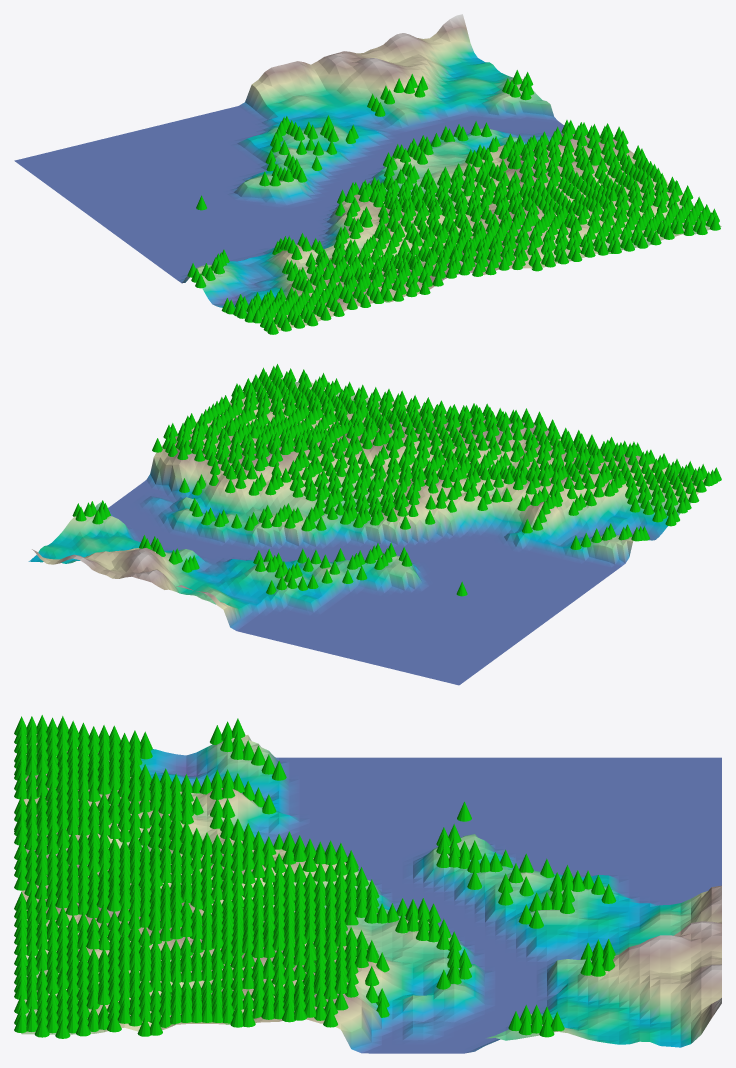
File: 003174_with_tree.glb
The picture shows the model from 3 angles, top to bottom: view 1: azimuth 30°, elevation 25°; view 2: azimuth 150°, elevation 25°; view 3: azimuth 270°, elevation 25°; orthographic projection. The views are drawn at different scales.
Parts seen in each view (by area): view 1: terrain, trees; view 2: terrain, trees; view 3: terrain, trees.
Part boxes in pixels (left/top/right/bottom): terrain: left=14, top=14, right=721, bottom=330; trees: left=187, top=70, right=720, bottom=334; terrain: left=28, top=376, right=705, bottom=685; trees: left=72, top=364, right=721, bottom=596; terrain: left=21, top=734, right=721, bottom=1053; trees: left=14, top=715, right=616, bottom=1038.
Bounding box in the file's own units: 0.0187 × 0.00176 × 0.0185.
